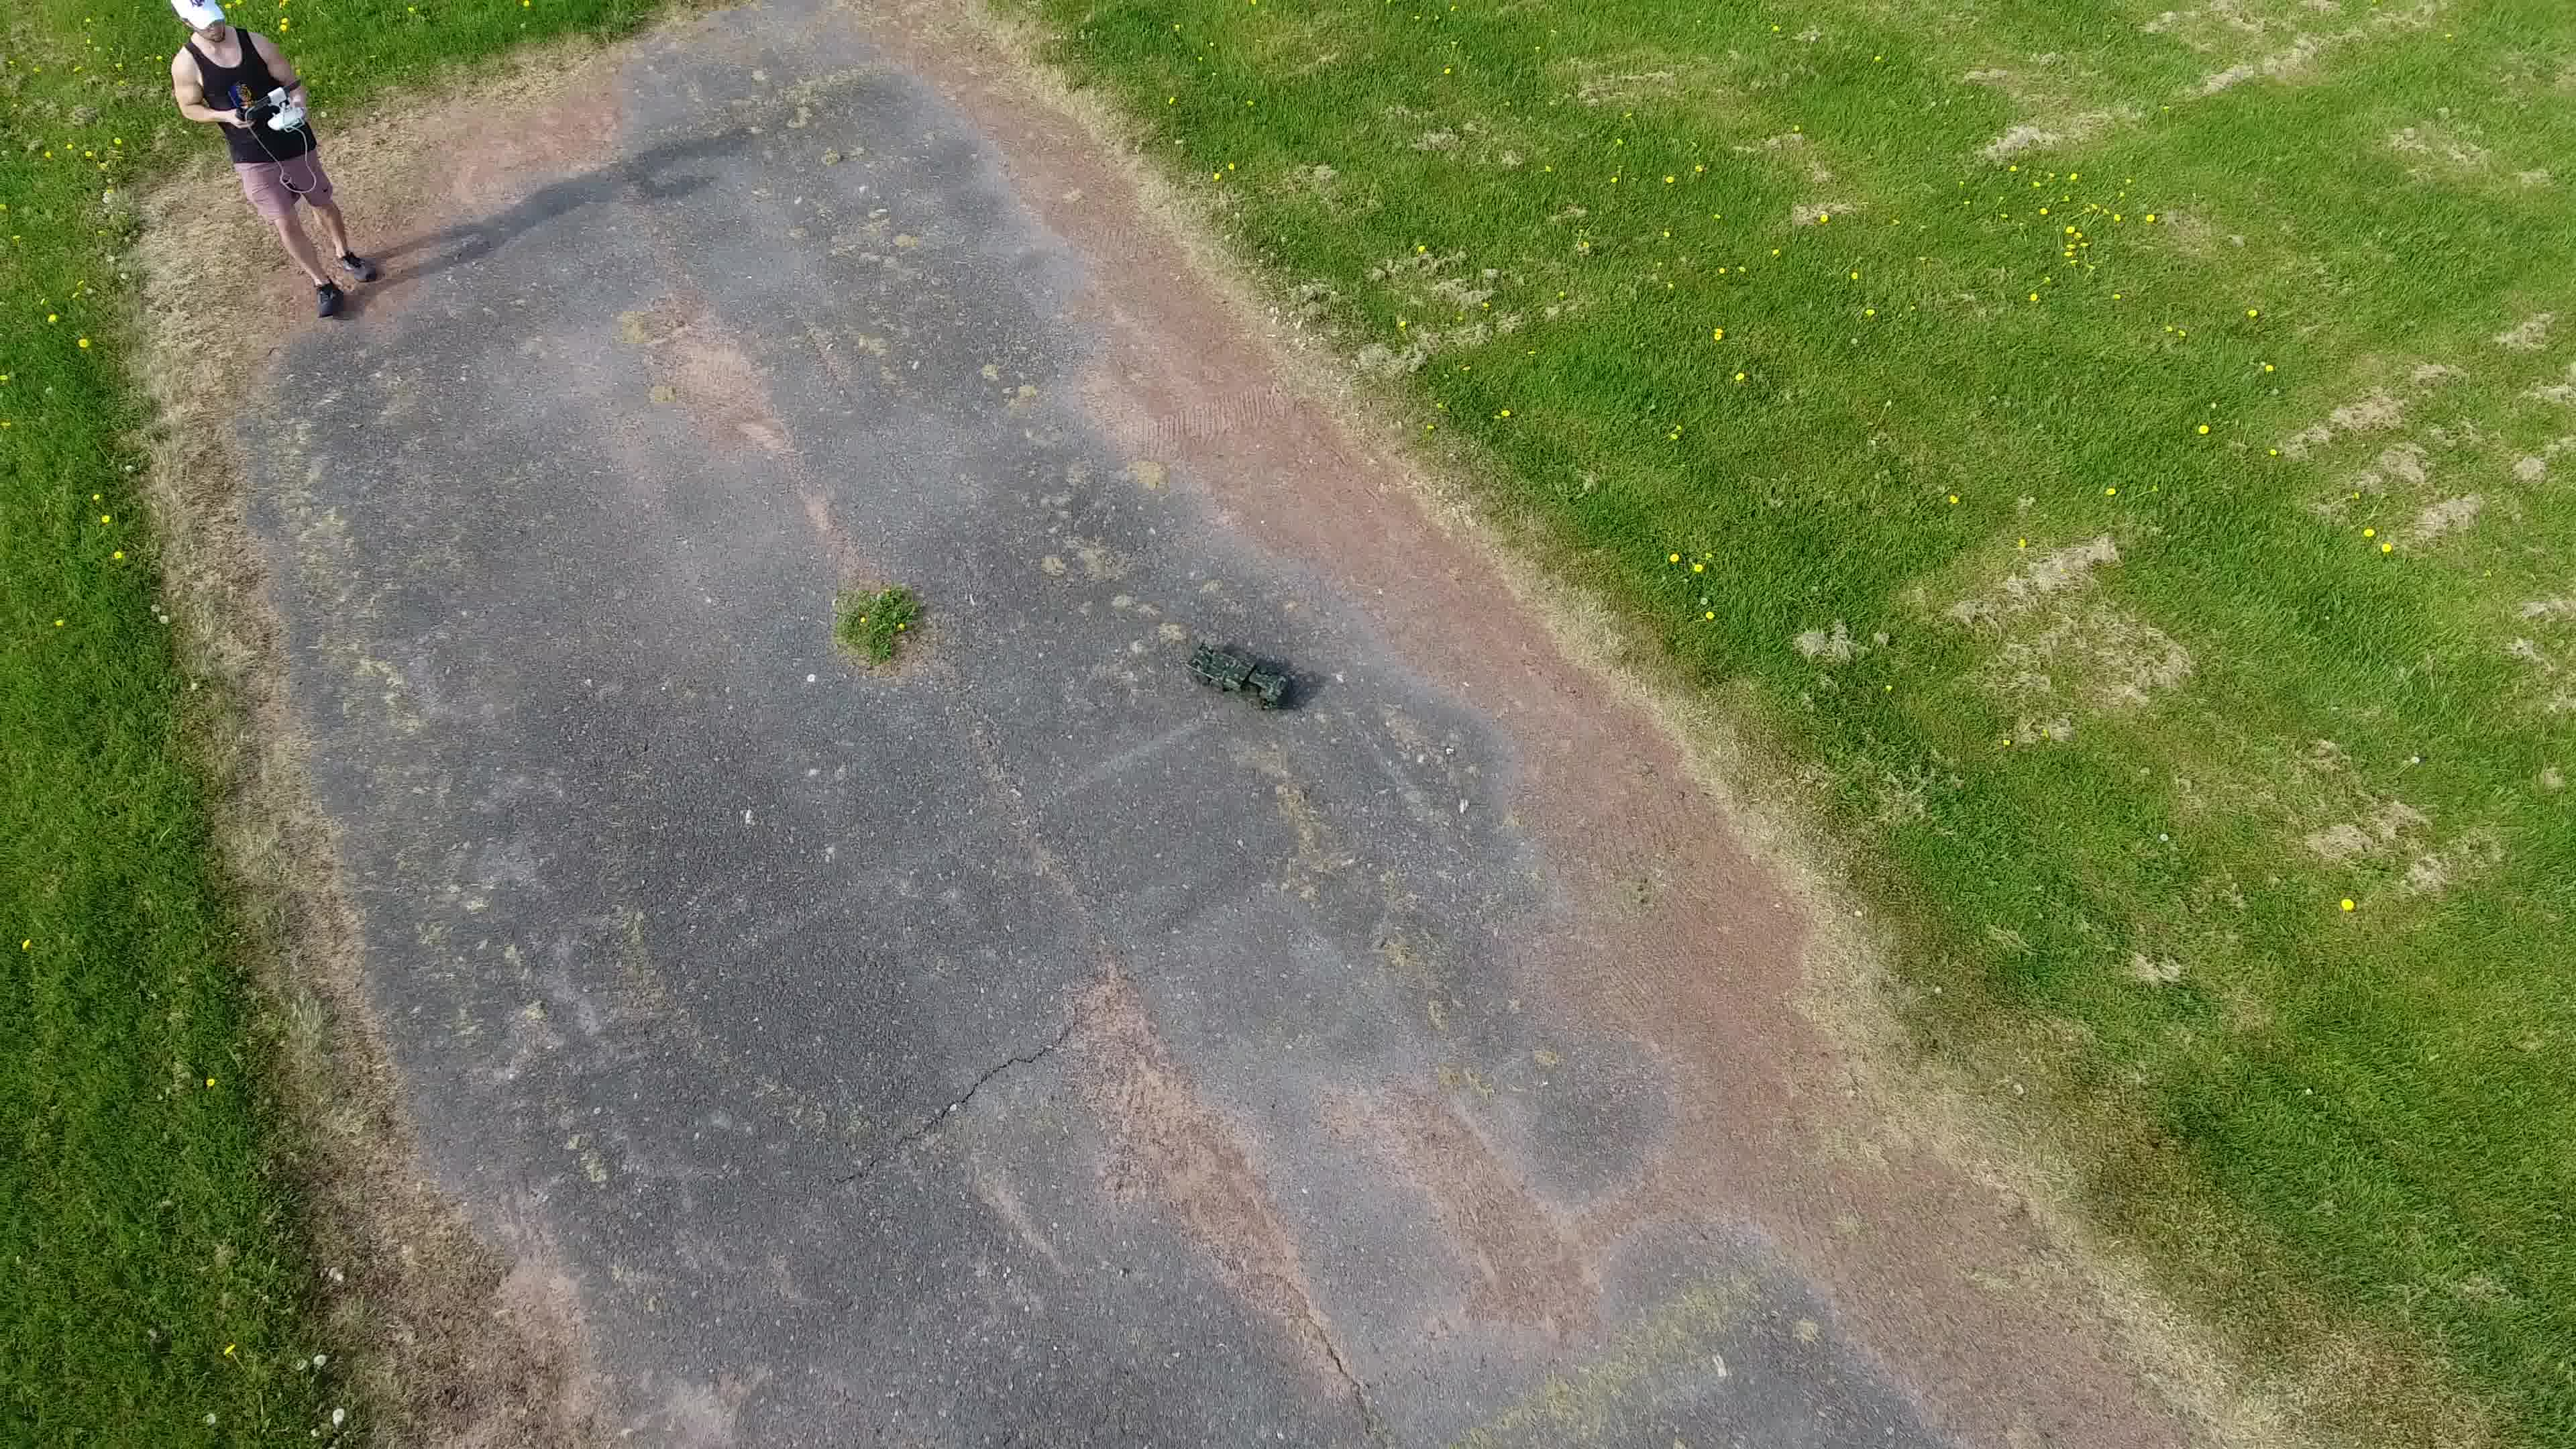transporter9_camo: (1184, 633, 1293, 713)
